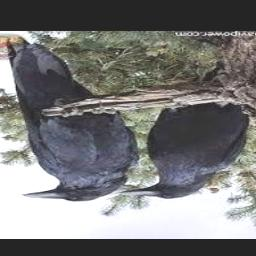Crow: (6, 39, 140, 202), (119, 101, 251, 199)
